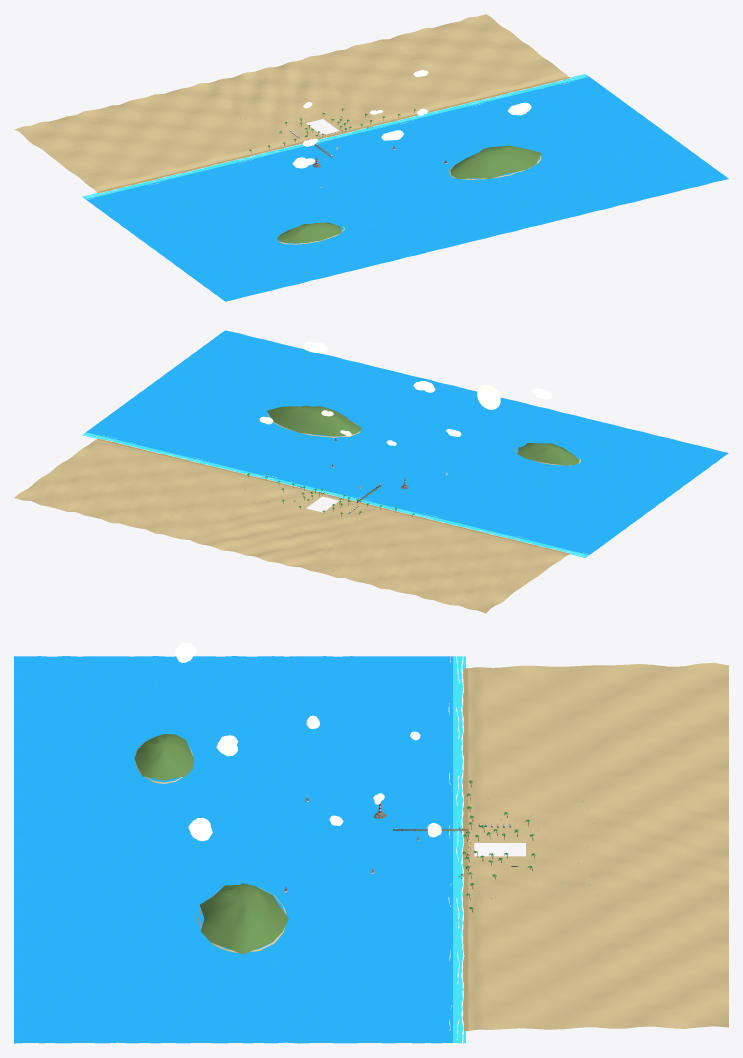
File: venue_beach.glb
3 views of the same model, one above another, from view 1: azimuth 30°, elevation 25°; view 2: azimuth 150°, elevation 25°; view 3: azimuth 270°, elevation 25° (orthographic). The views are drawn at different scales.
Parts seen in each view (by area): view 1: Beach; view 2: Beach, Sun; view 3: Beach.
Boxes of the visible parts, x1,y1,x2,y2 form: Beach: (14, 14, 728, 301); Beach: (14, 330, 728, 613); Sun: (477, 384, 500, 409); Beach: (14, 656, 728, 1043).
Bounding box in the file's own units: 1280 × 177 × 1000.
